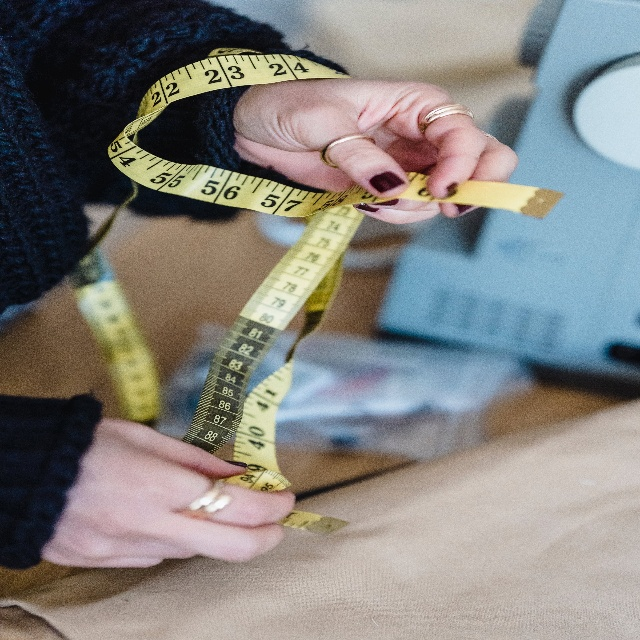Sin_guantes: (229, 76, 520, 238), (51, 403, 296, 586)
